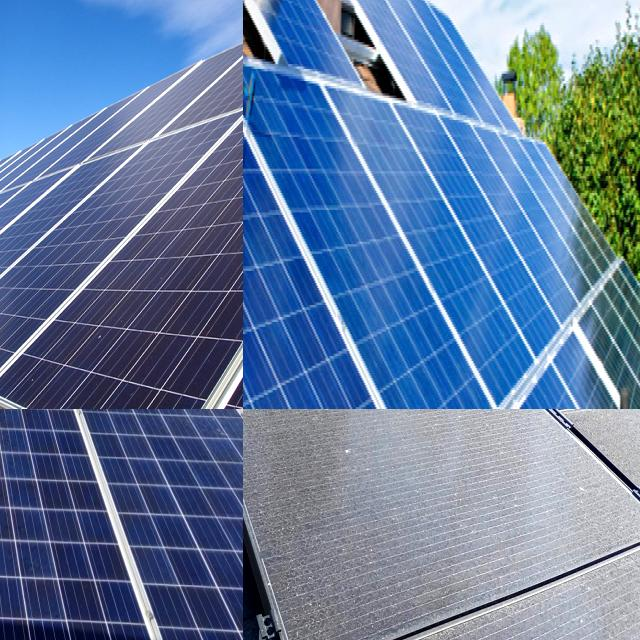crack: (243, 39, 627, 409), (329, 166, 640, 409), (66, 409, 243, 640), (0, 409, 144, 640), (338, 0, 539, 146), (121, 171, 243, 400), (0, 409, 96, 593), (0, 209, 107, 336), (243, 0, 364, 84), (0, 409, 77, 512), (0, 409, 73, 473)
dust: (262, 410, 542, 538), (309, 569, 618, 640), (243, 409, 422, 454), (552, 409, 598, 534), (243, 409, 359, 434), (243, 409, 319, 429), (243, 409, 308, 431)
